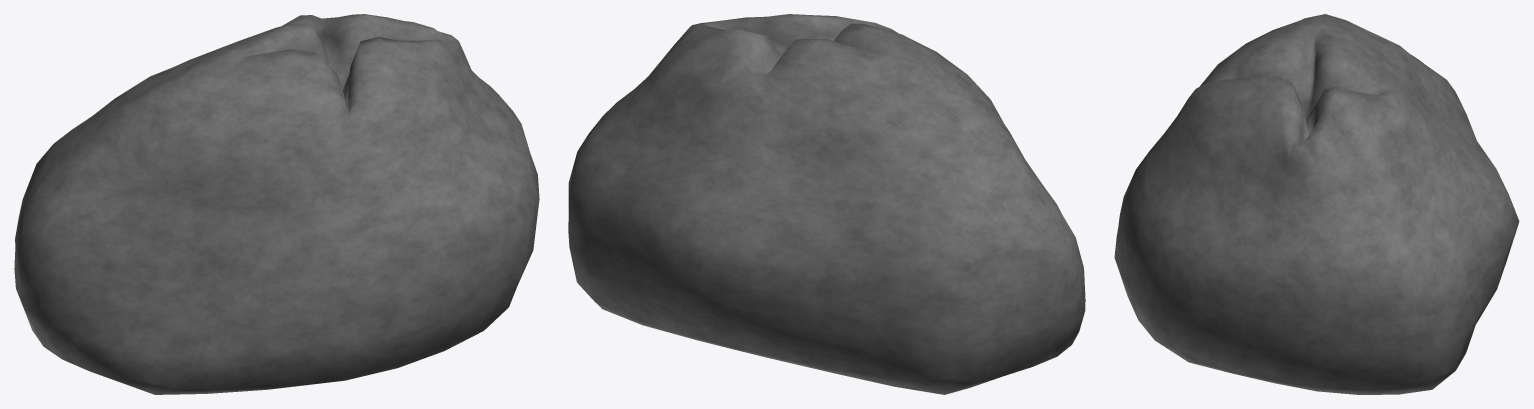
Rendered from DecorativeRock.fbx.
The picture shows the model from 3 angles, left to right: view 1: azimuth 30°, elevation 25°; view 2: azimuth 150°, elevation 25°; view 3: azimuth 270°, elevation 25°; orthographic projection. The views are drawn at different scales.
Visible parts, largest first — view 1: Rock; view 2: Rock; view 3: Rock.
Boxes of the visible parts, <box> form: Rock: <box>14,14,539,394</box>; Rock: <box>568,14,1085,394</box>; Rock: <box>1114,14,1519,394</box>.
Bounding box in the file's own units: 366 × 202 × 279.
Materials: 1 (1 with a texture image).
